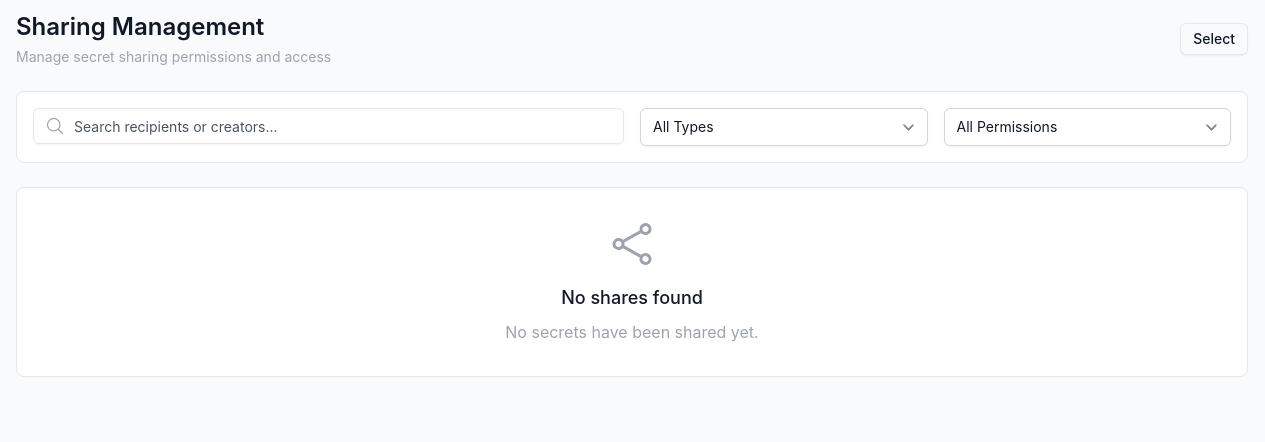
Test: SharingManagementPage — loading / empty / error states › shows filtered-empty copy when a filter is active but yields no rows
Select "Read & Write" in the 2nd dropdown: (1087, 127) [944,108,1231,146]
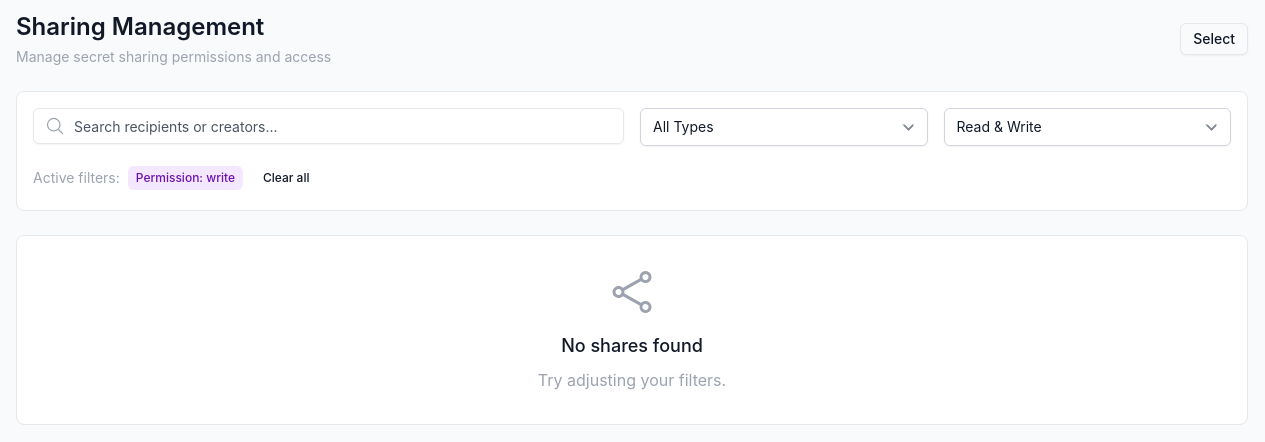
Check: the text "Try adjusting your filters." is shown, box [538,370,726,390]
